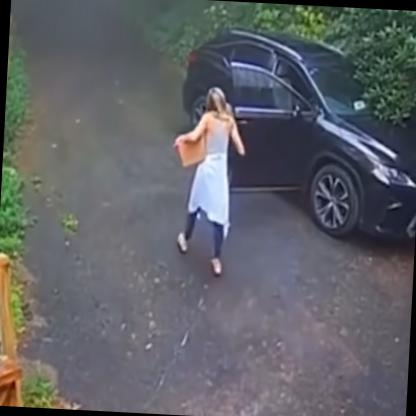Human Body: (165, 79, 250, 286)
